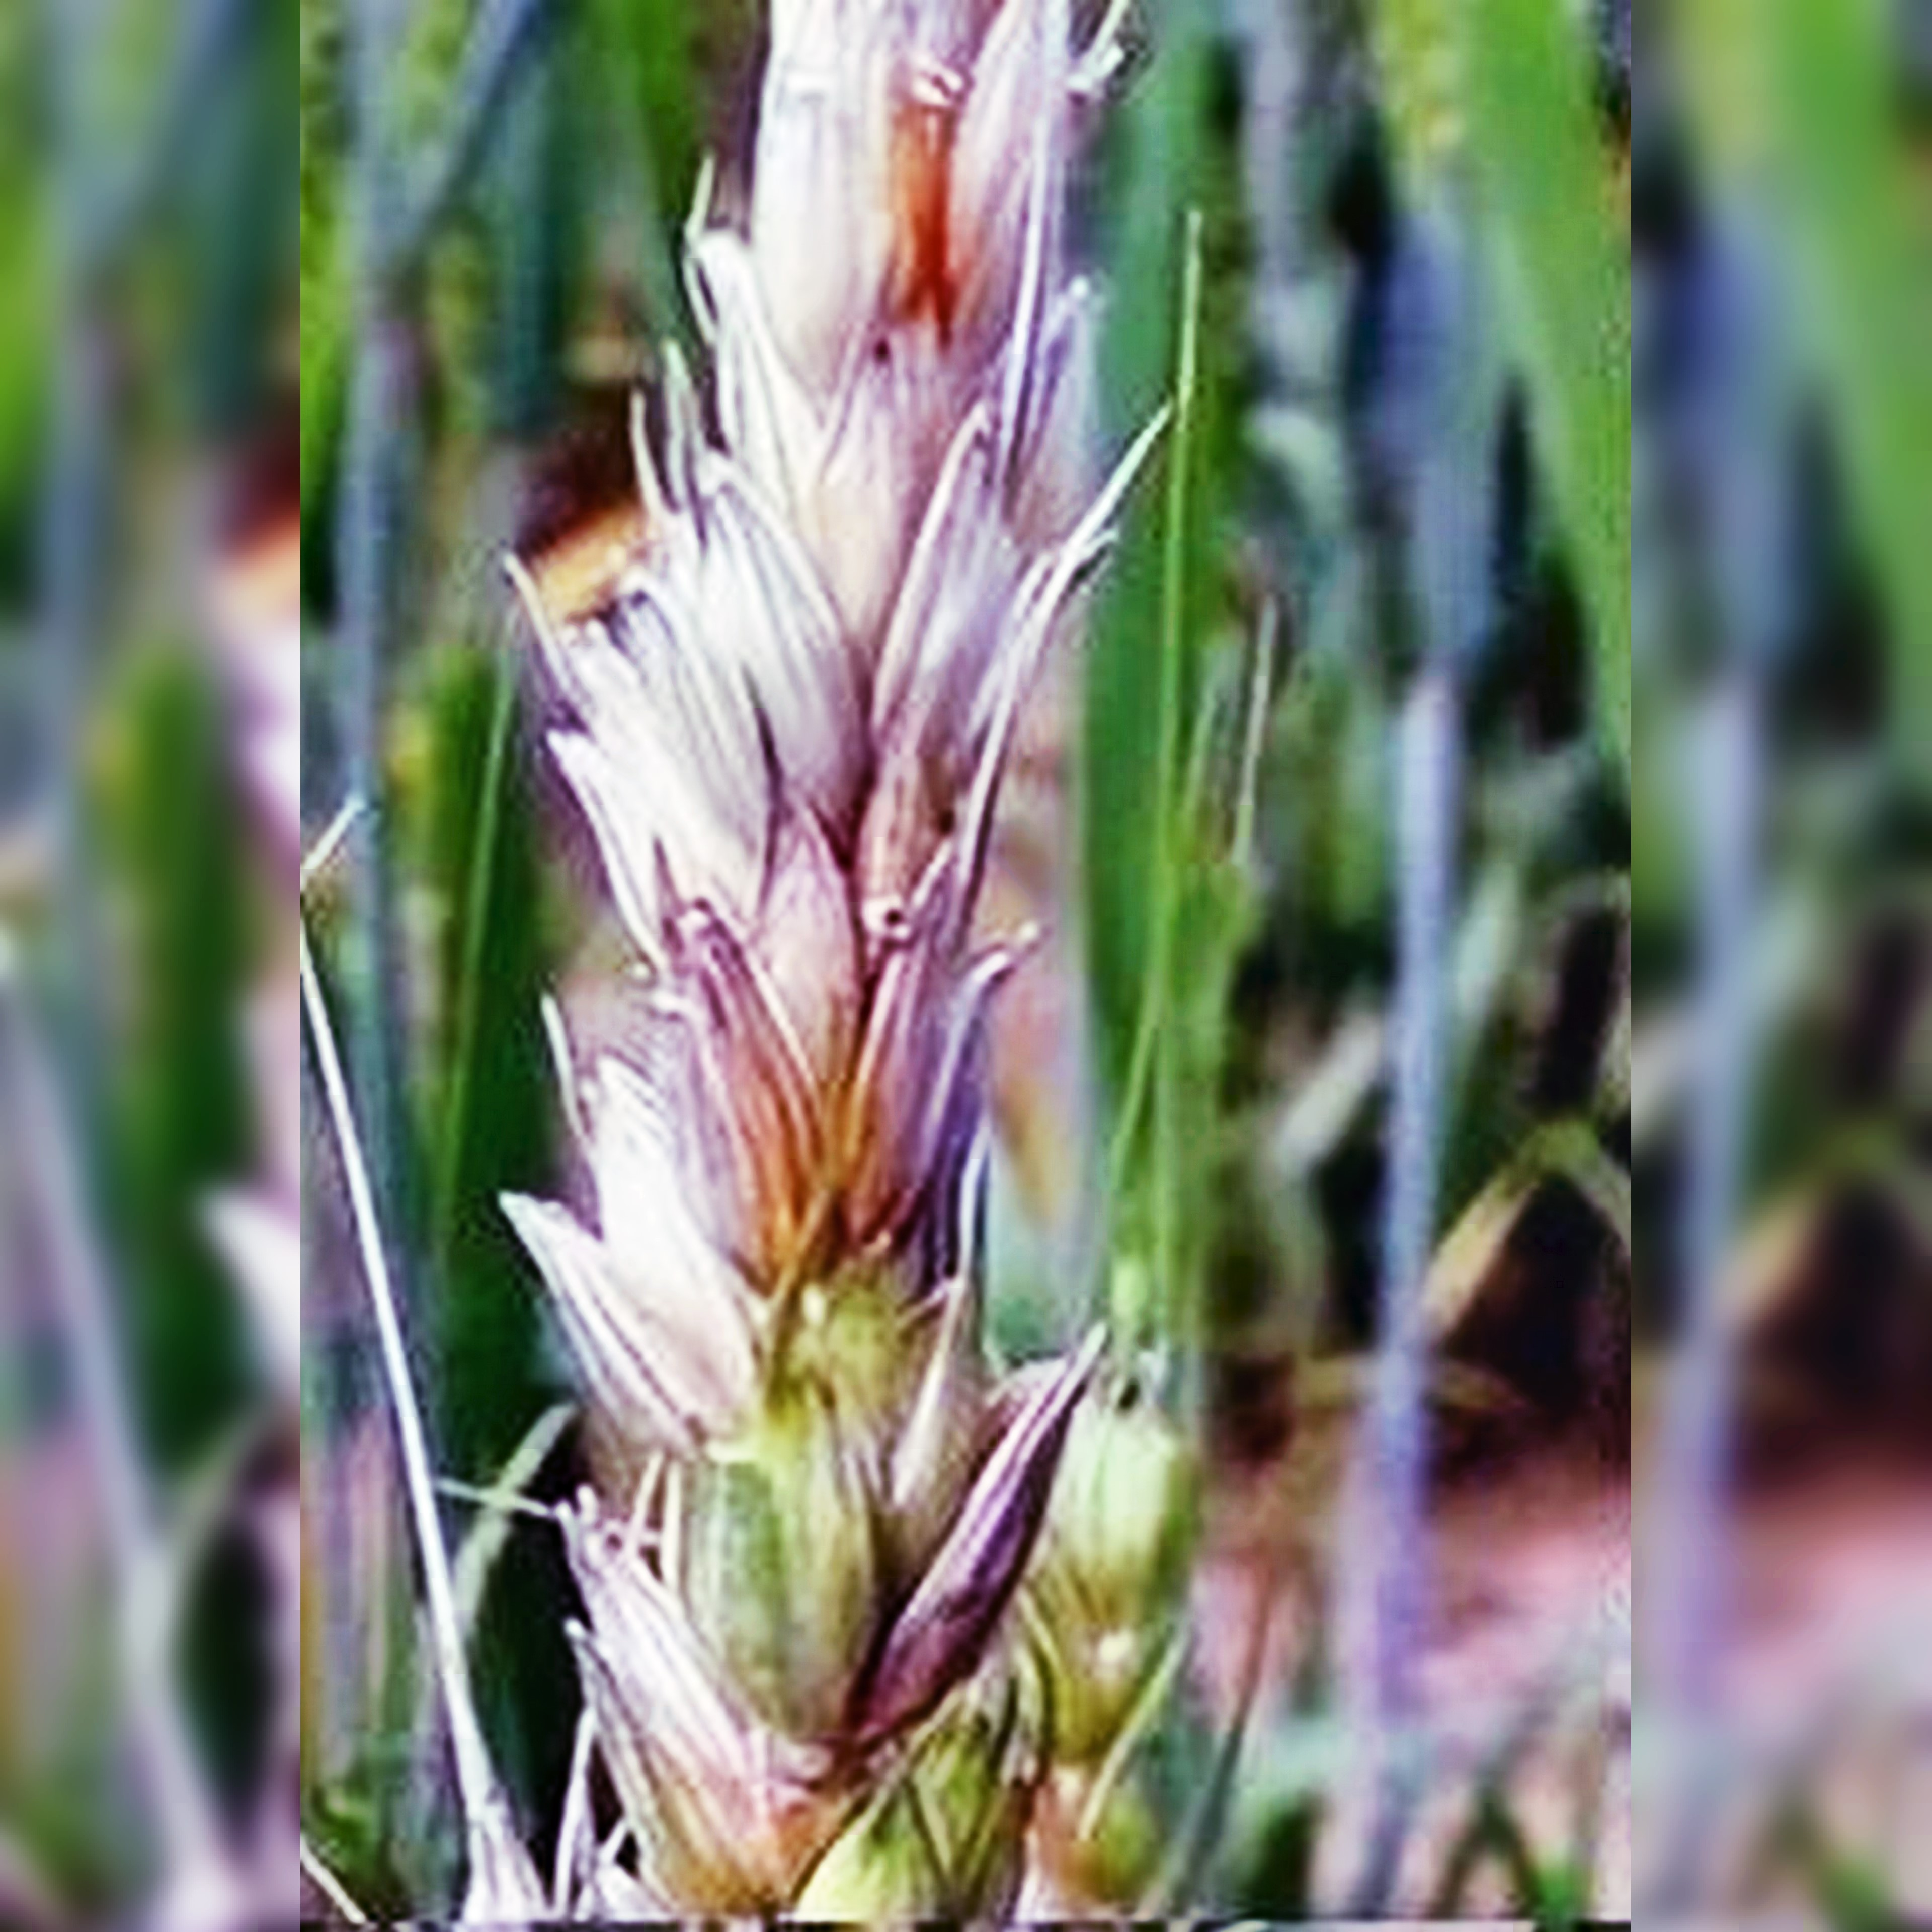Wheat scab: (492, 103, 1231, 1870)
